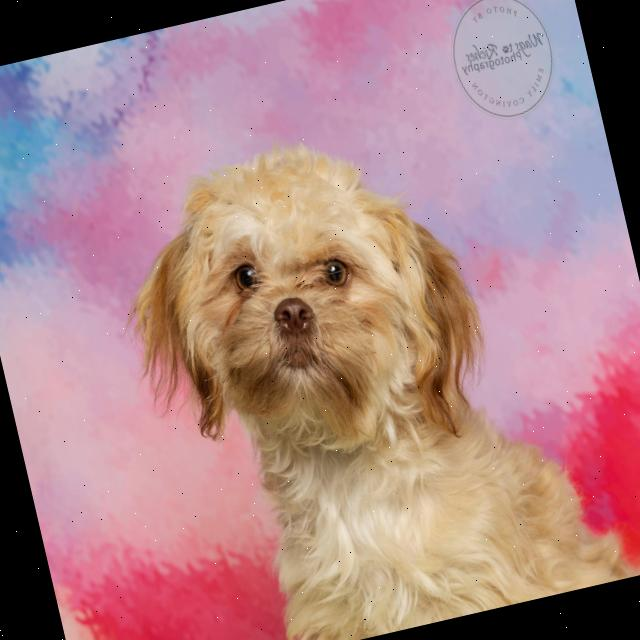shih_tzu_dog: (89, 86, 521, 544)
